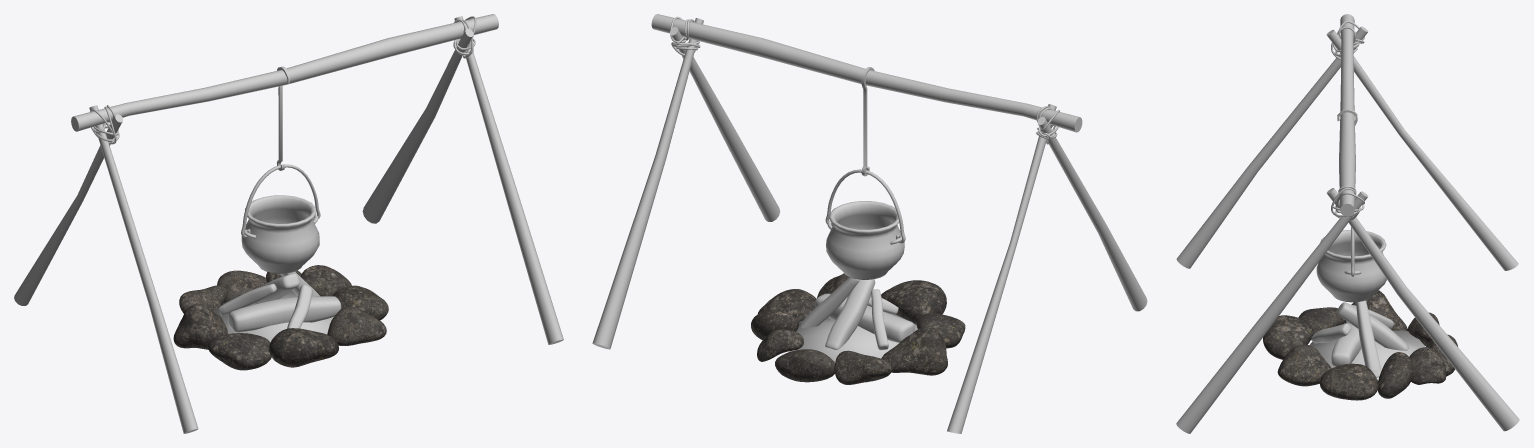
The picture shows the model from 3 angles, left to right: view 1: azimuth 30°, elevation 25°; view 2: azimuth 150°, elevation 25°; view 3: azimuth 270°, elevation 25°; orthographic projection. The views are drawn at different scales.
Visible parts, largest first — view 1: wooden logs, rock.015, wooden_log_top, kettle, burnt logs, nashshiri, ropes; view 2: wooden logs, rock.015, wooden_log_top, kettle, burnt logs, nashshiri, ropes, kauchi; view 3: wooden logs, rock.015, kettle, burnt logs, wooden_log_top, nashshiri, ropes.
Part boxes in pixels (<box>): wooden logs: <box>14,16,563,433</box>; rock.015: <box>173,265,388,370</box>; wooden_log_top: <box>71,14,498,131</box>; kettle: <box>241,164,320,273</box>; burnt logs: <box>218,271,341,332</box>; nashshiri: <box>213,290,333,342</box>; ropes: <box>90,16,476,144</box>; wooden logs: <box>592,18,1147,433</box>; rock.015: <box>751,273,965,384</box>; wooden_log_top: <box>651,14,1082,132</box>; kettle: <box>825,169,905,279</box>; burnt logs: <box>799,277,914,350</box>; nashshiri: <box>796,314,917,362</box>; ropes: <box>670,16,1059,144</box>; kauchi: <box>861,67,874,176</box>; wooden logs: <box>1176,26,1519,433</box>; rock.015: <box>1263,290,1457,400</box>; kettle: <box>1316,227,1386,302</box>; burnt logs: <box>1311,300,1408,372</box>; wooden_log_top: <box>1339,14,1355,216</box>; nashshiri: <box>1309,330,1425,377</box>; ropes: <box>1331,21,1364,220</box>.
Size of the model in its own units: 411 by 263 by 315.
